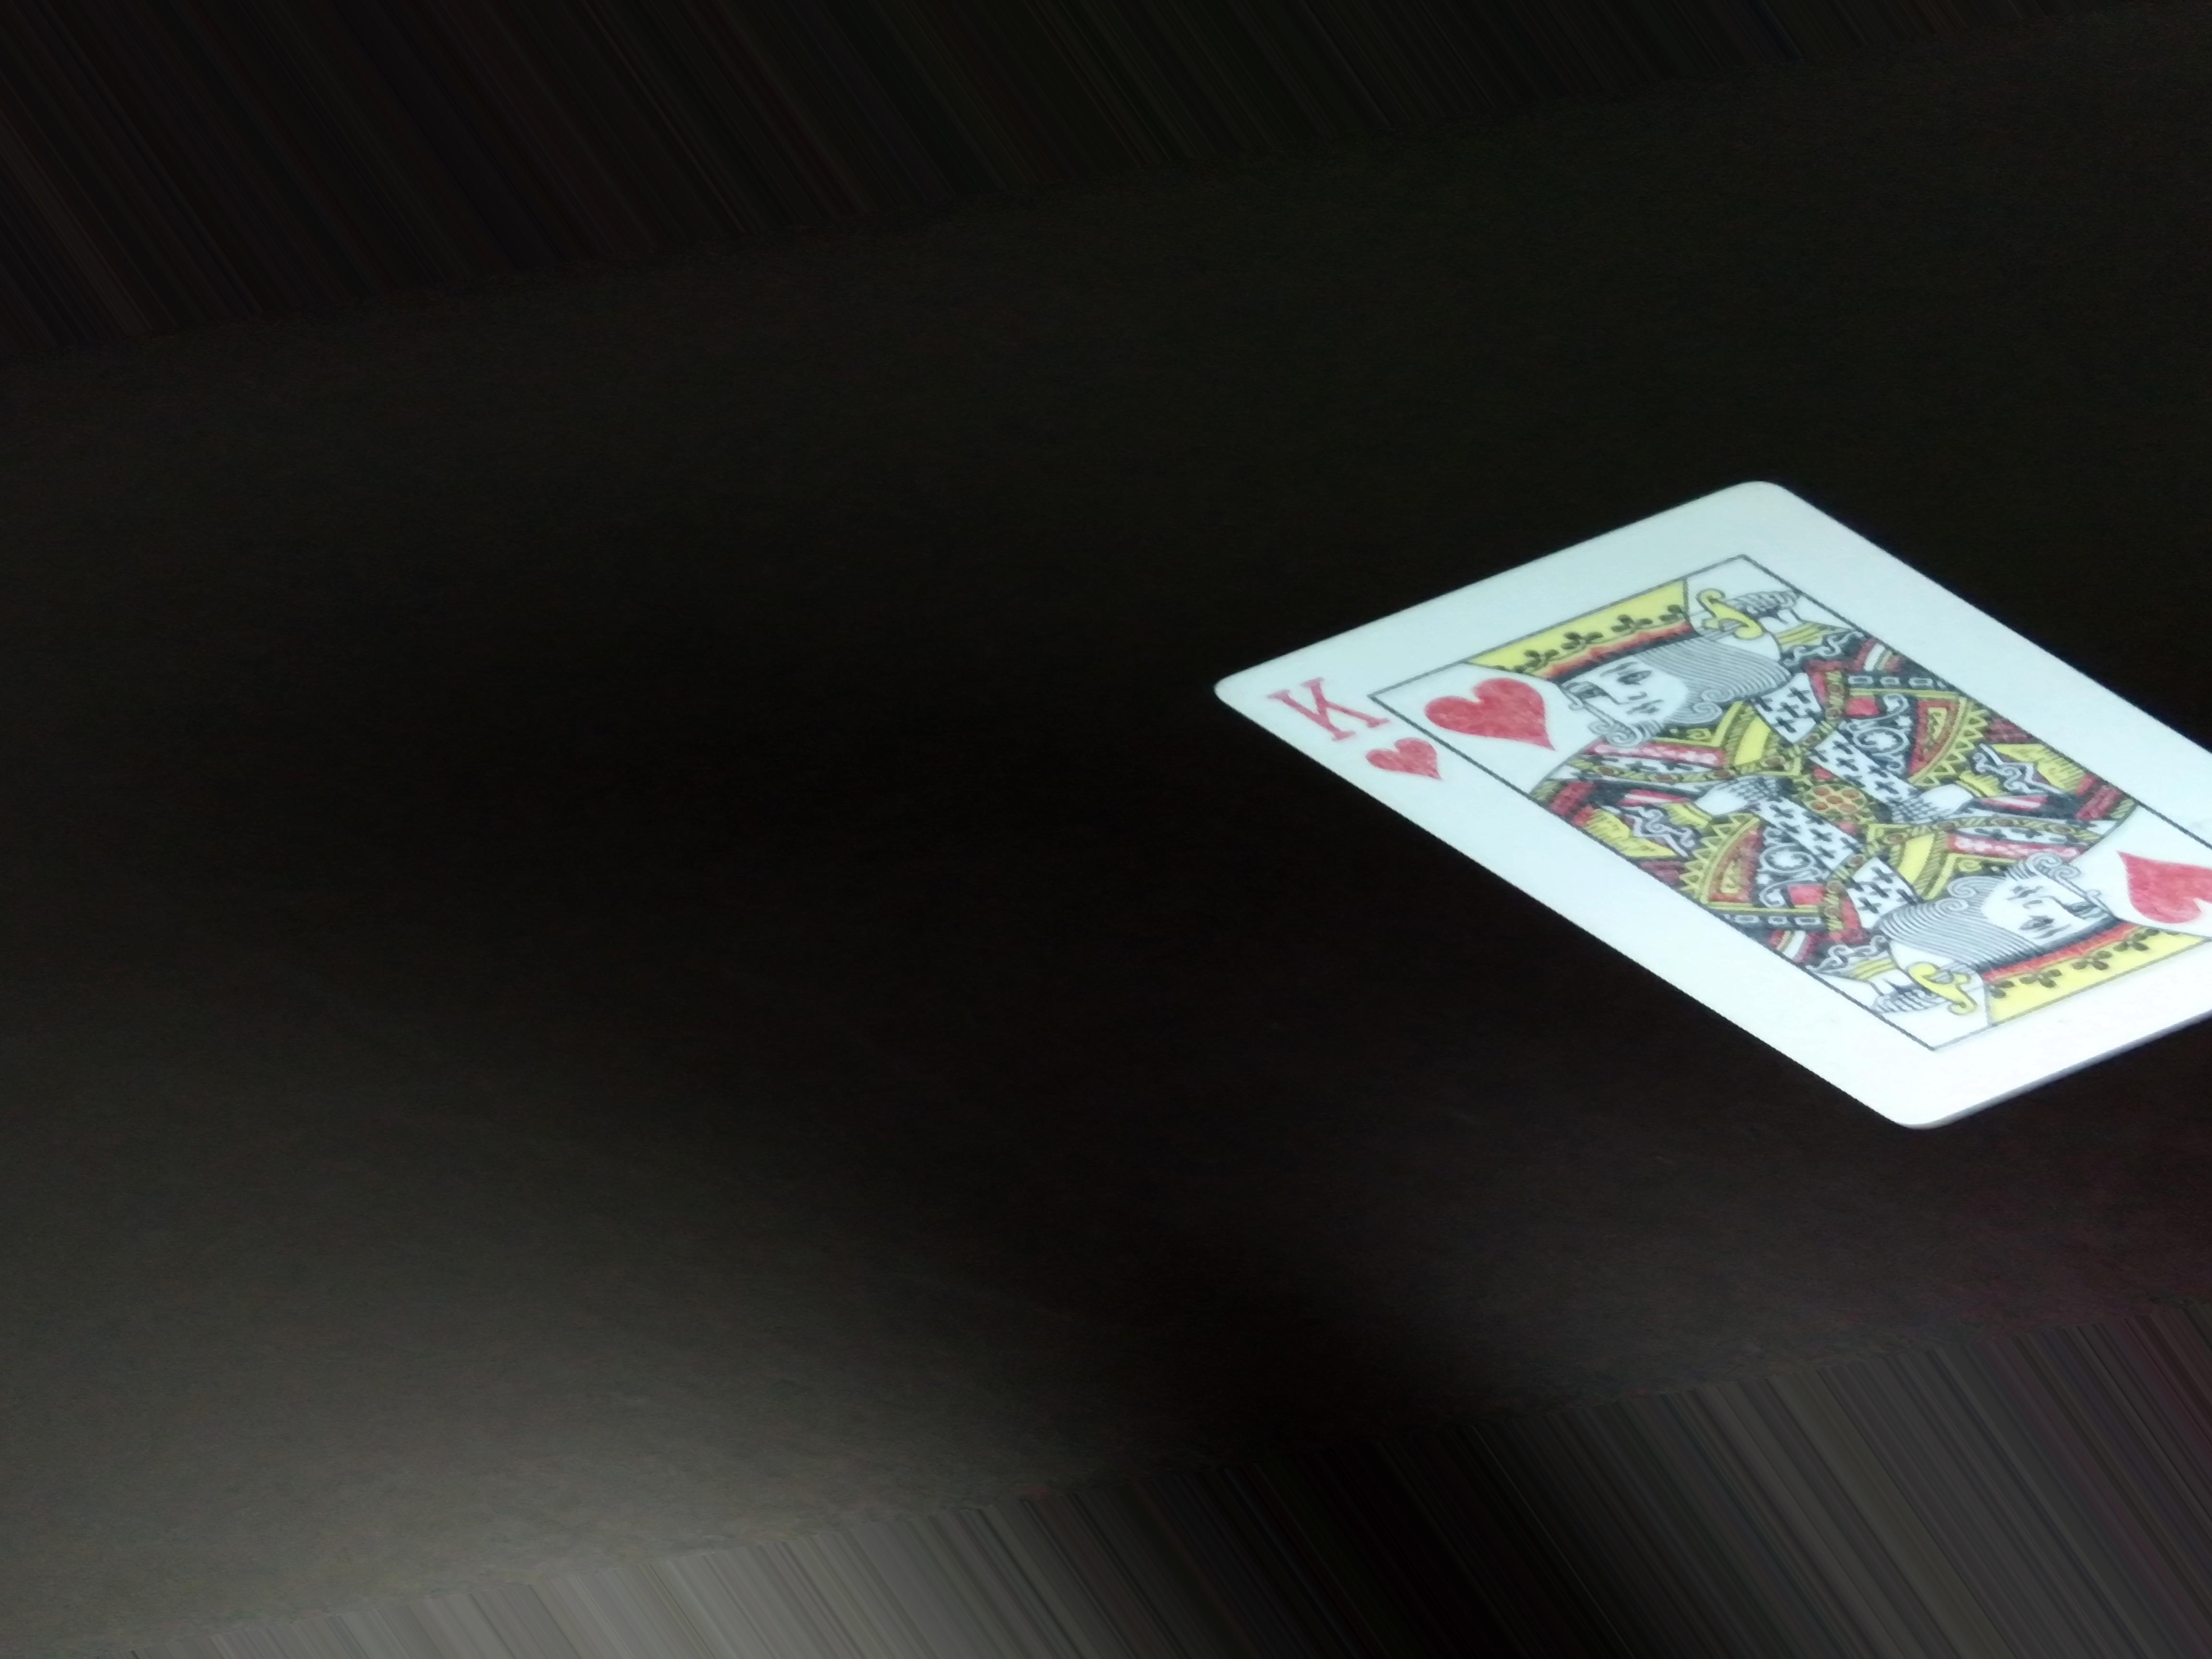KH: (1261, 666, 1444, 803)
